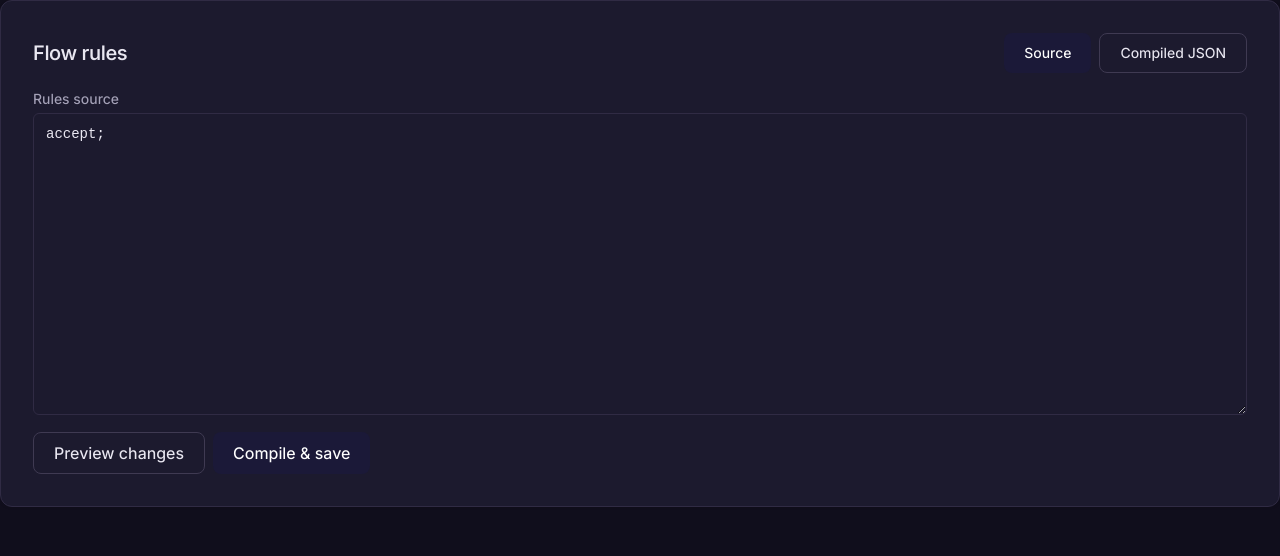
Scenario: RulesEditor › shows the compile error instead of a diff when the edited source fails to compile
Replace the text in the text box labelled "Rules source" with "not a valid rule" at (640, 264), box [33,113,1247,415]
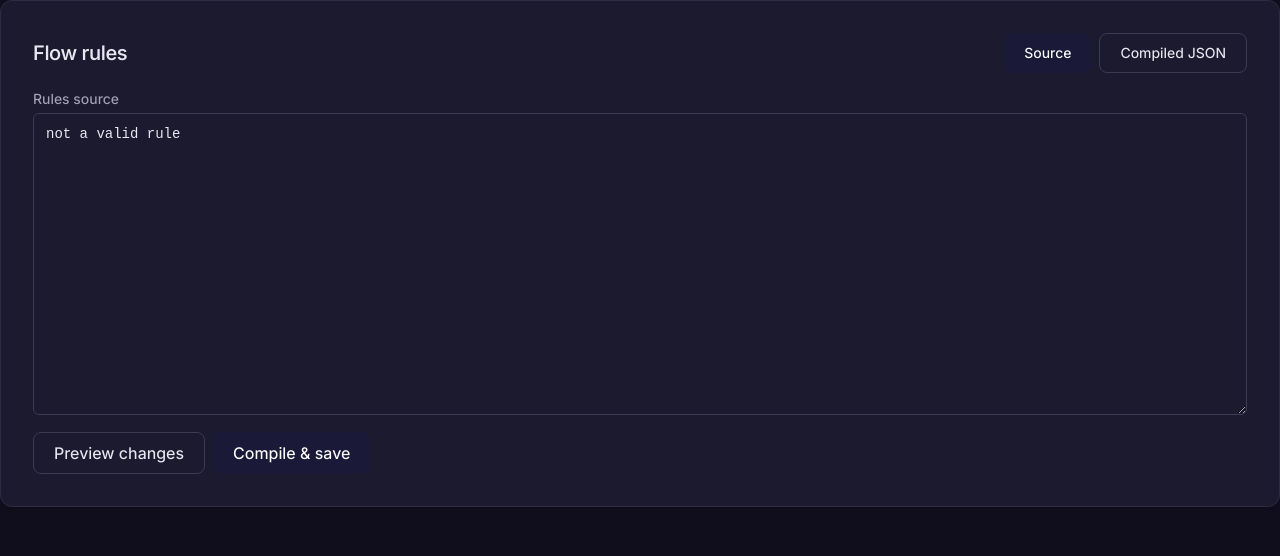
Click the button "Preview changes".
click(119, 453)  # box [33,432,205,474]
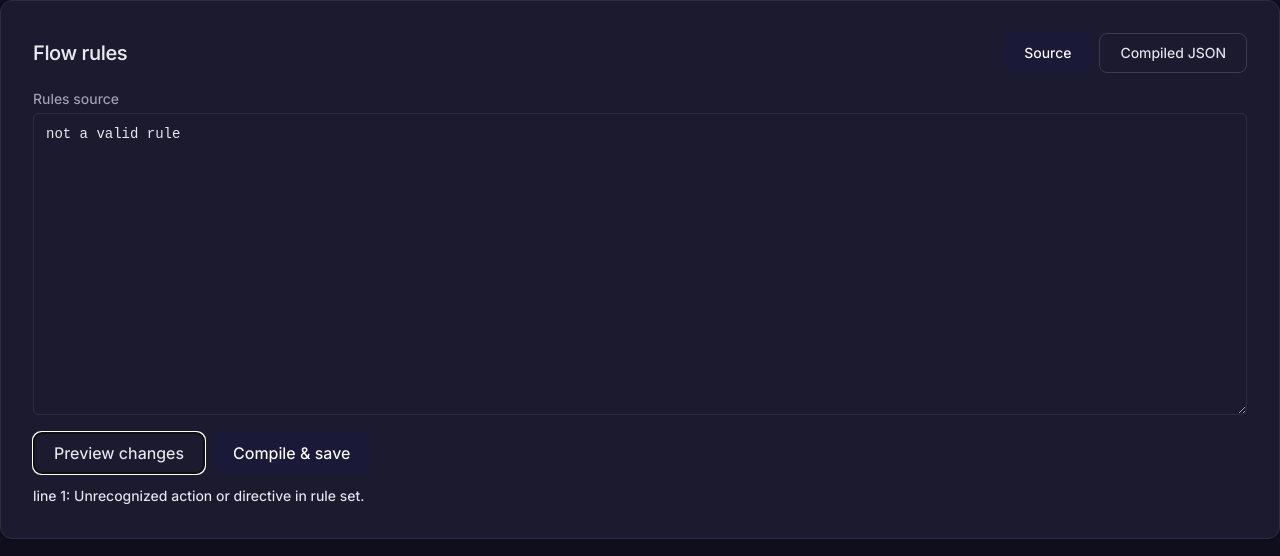
Expected: the message "line 1: Unrecognized action or directive in rule set." is shown, [33,487,364,504]
